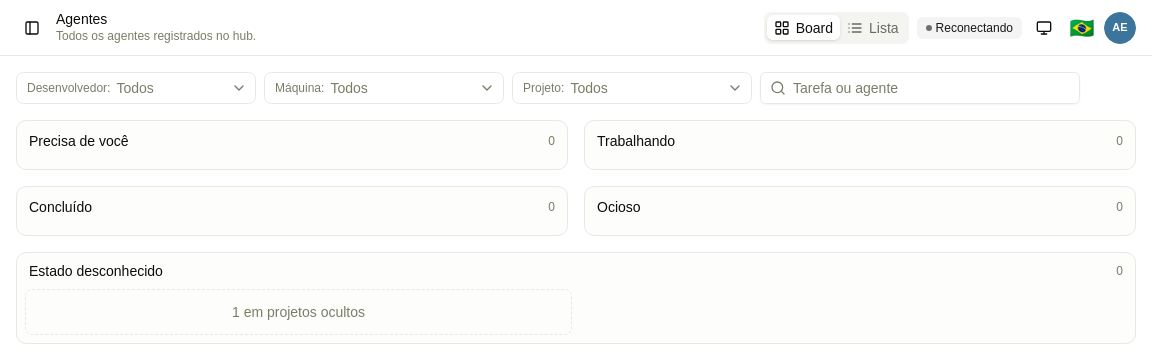
keeps a hidden unknown agent visible when switching Board and List
Check: the dropdown labelled "Desenvolvedor" is shown, box x1=16 y1=72 x2=256 y2=104
Click the tab "Lista" at x=873, y=28, box x1=840 y1=15 x2=906 y2=40
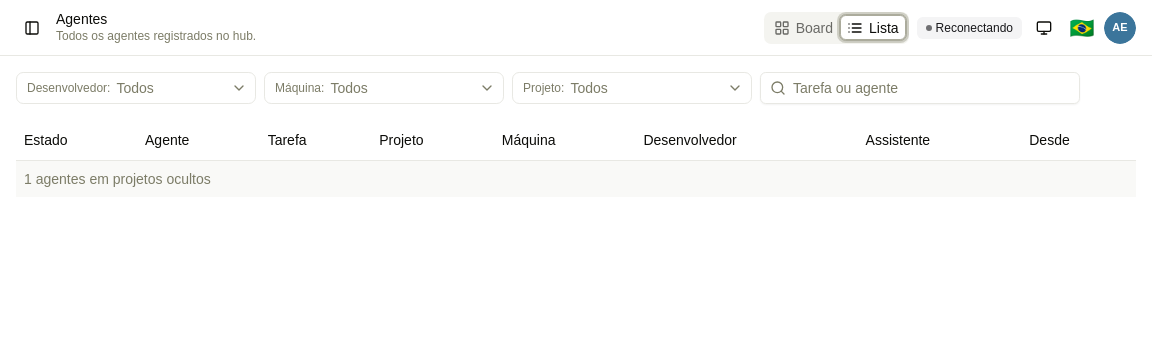
Check: the text "1 agentes em projetos ocultos" is shown, box x1=16 y1=160 x2=1136 y2=196
